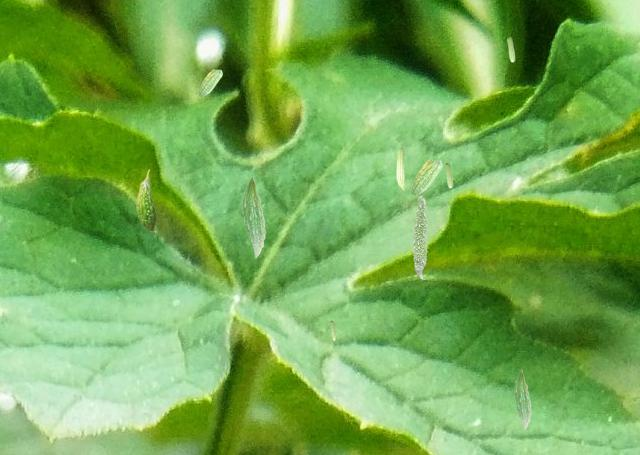ampalaya: (242, 175, 266, 259), (411, 195, 428, 279), (135, 169, 157, 232), (410, 158, 442, 195), (514, 369, 531, 430), (198, 68, 223, 97), (396, 145, 405, 191), (506, 36, 515, 62), (444, 162, 453, 188), (329, 320, 336, 340)
